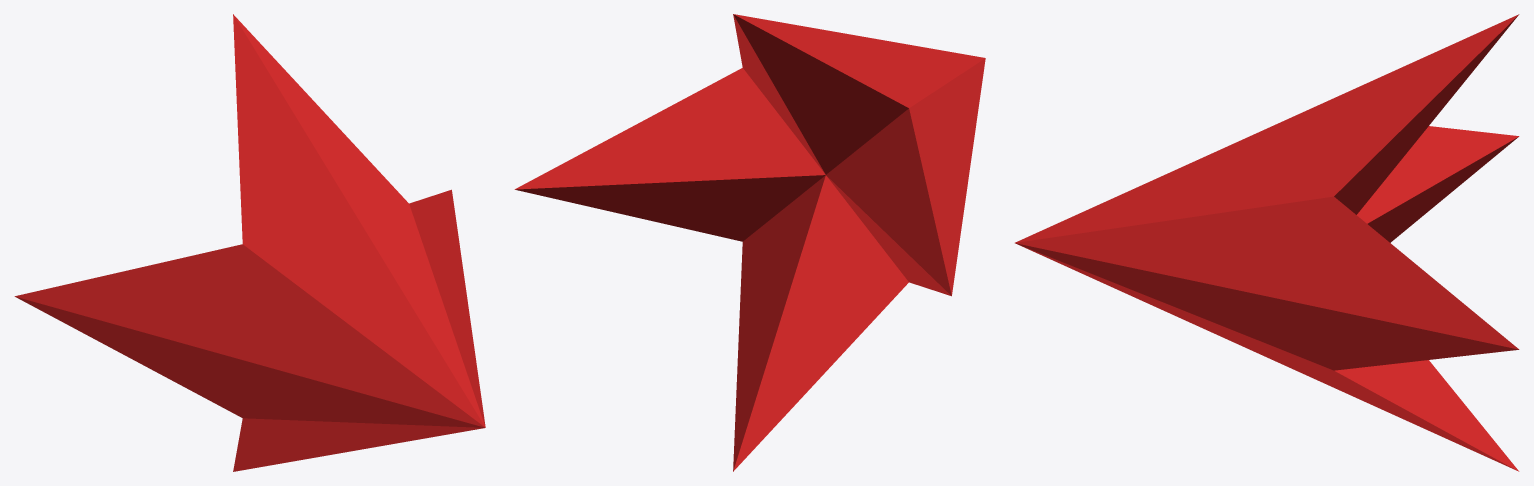
File: rightPlayer.obj
3 views of the same model, side by side, from view 1: azimuth 30°, elevation 25°; view 2: azimuth 150°, elevation 25°; view 3: azimuth 270°, elevation 25° (orthographic).
Visible parts, largest first — view 1: 円錐; view 2: 円錐; view 3: 円錐.
Boxes of the visible parts, left/top/right/bottom form: 円錐: left=14, top=14, right=485, bottom=471; 円錐: left=514, top=14, right=985, bottom=471; 円錐: left=1015, top=14, right=1519, bottom=471.
Bounding box in the file's own units: 2 × 2 × 2.
